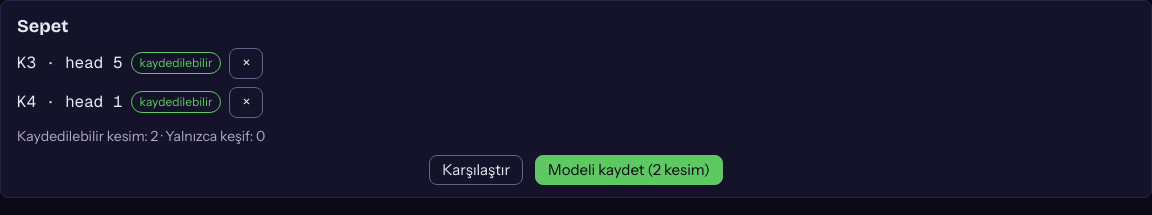
Scenario: remove then Geri al restores the row
Click the button named "K3 · head 5 sepetten çıkar" at (246, 63), box [229,48,263,79]
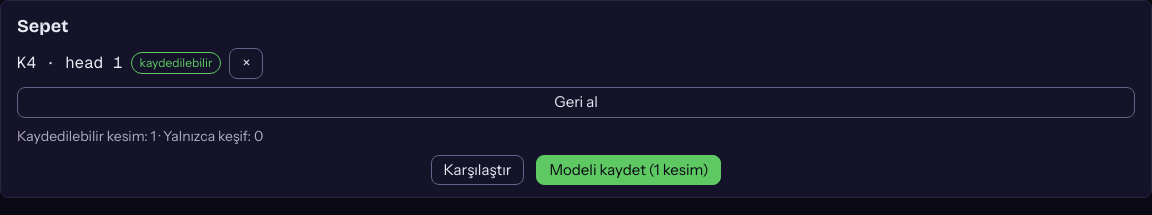
Expected: the text "K3 · head 5" is gone
Click the button "Geri al" at (576, 102), box [17,87,1135,118]
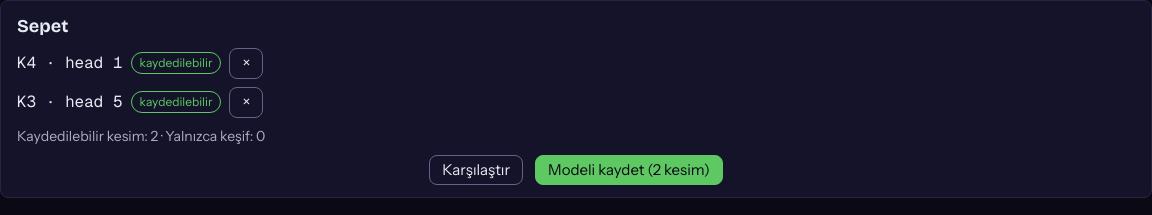
Expected: the text "K3 · head 5" is shown, [17,90,123,114]
Expected: the button "Geri al" is gone
